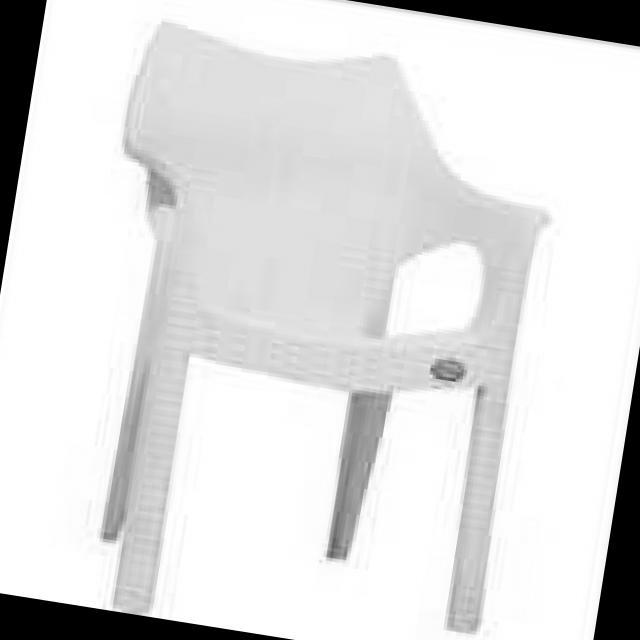chair: (43, 11, 587, 640)
